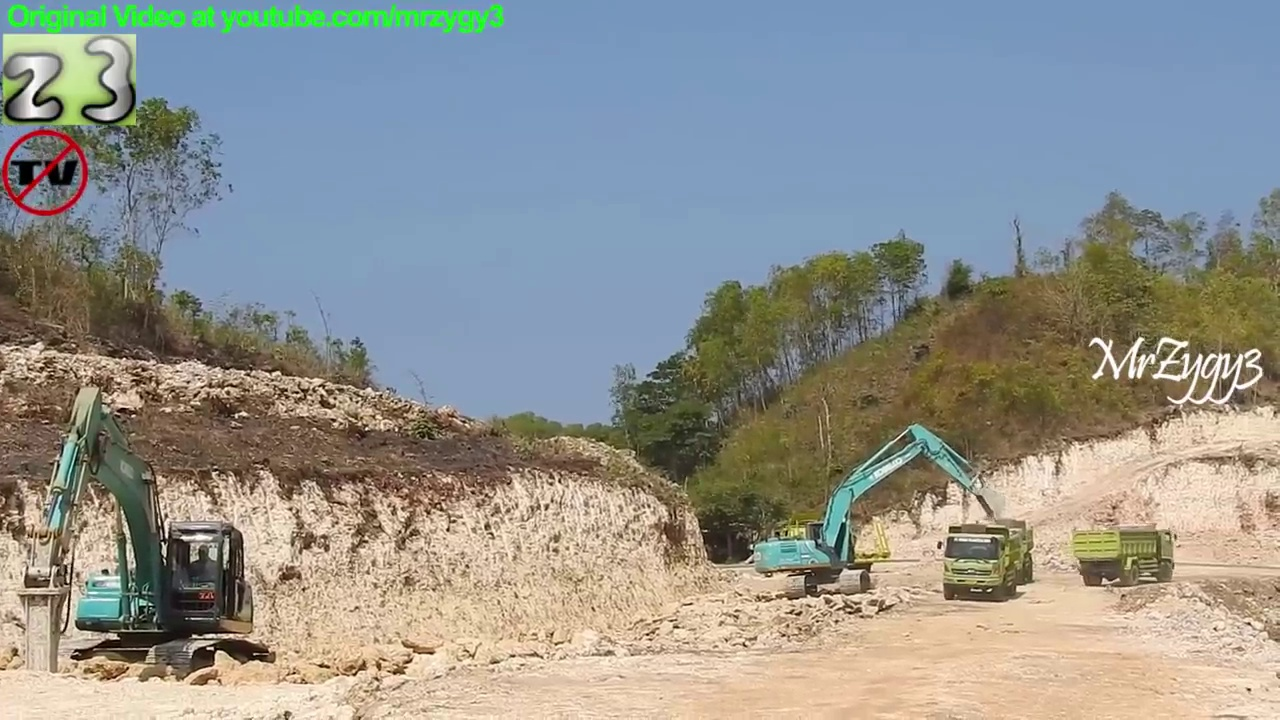excavator: (744, 420, 1009, 600)
excavator breaker: (15, 382, 278, 686)
truck: (934, 520, 1024, 602), (947, 514, 1036, 593), (1071, 524, 1179, 588)
